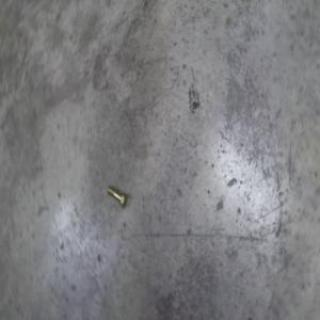Bolttrack_idkeyframe: (106, 182, 127, 207)
